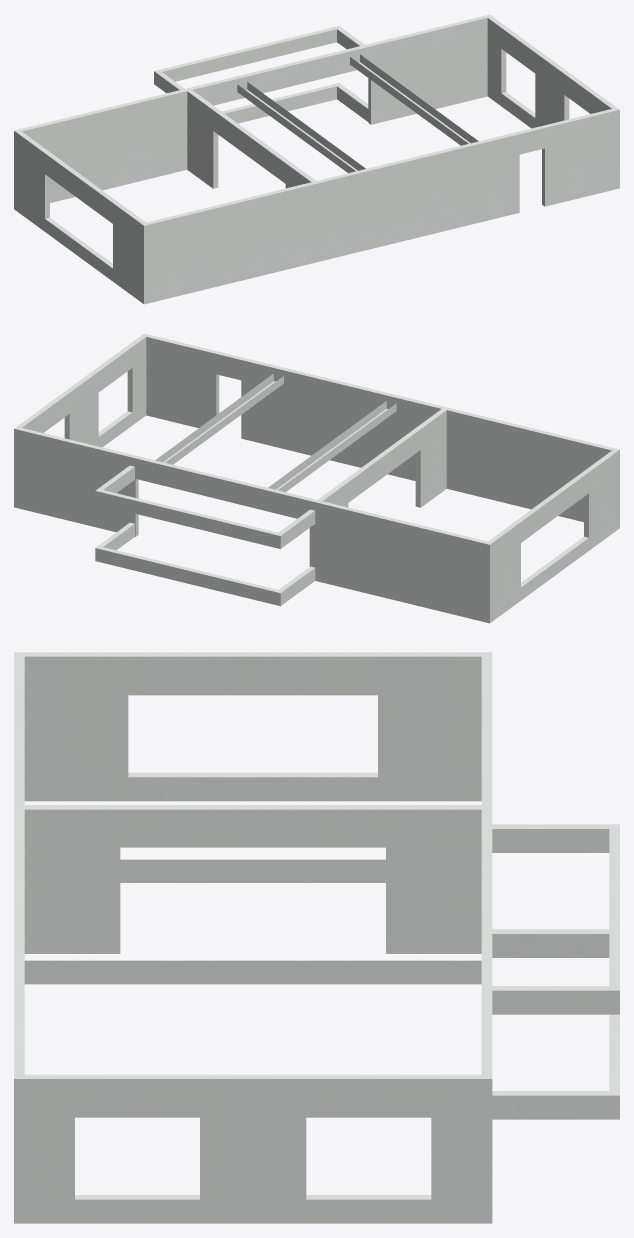
The model's file is aws_HouseWallB_01_visual.DAE.
The picture shows the model from 3 angles, top to bottom: view 1: azimuth 30°, elevation 25°; view 2: azimuth 150°, elevation 25°; view 3: azimuth 270°, elevation 25°; orthographic projection. The views are drawn at different scales.
Parts seen in each view (by area): view 1: aws_HouseWallB_01_visual; view 2: aws_HouseWallB_01_visual; view 3: aws_HouseWallB_01_visual.
Part boxes in pixels (left/top/right/bottom): aws_HouseWallB_01_visual: left=14, top=14, right=619, bottom=304; aws_HouseWallB_01_visual: left=14, top=333, right=619, bottom=623; aws_HouseWallB_01_visual: left=14, top=652, right=619, bottom=1223.
Size of the model in its own units: 1900 by 1140 by 300.
1 material, 1 textured.
